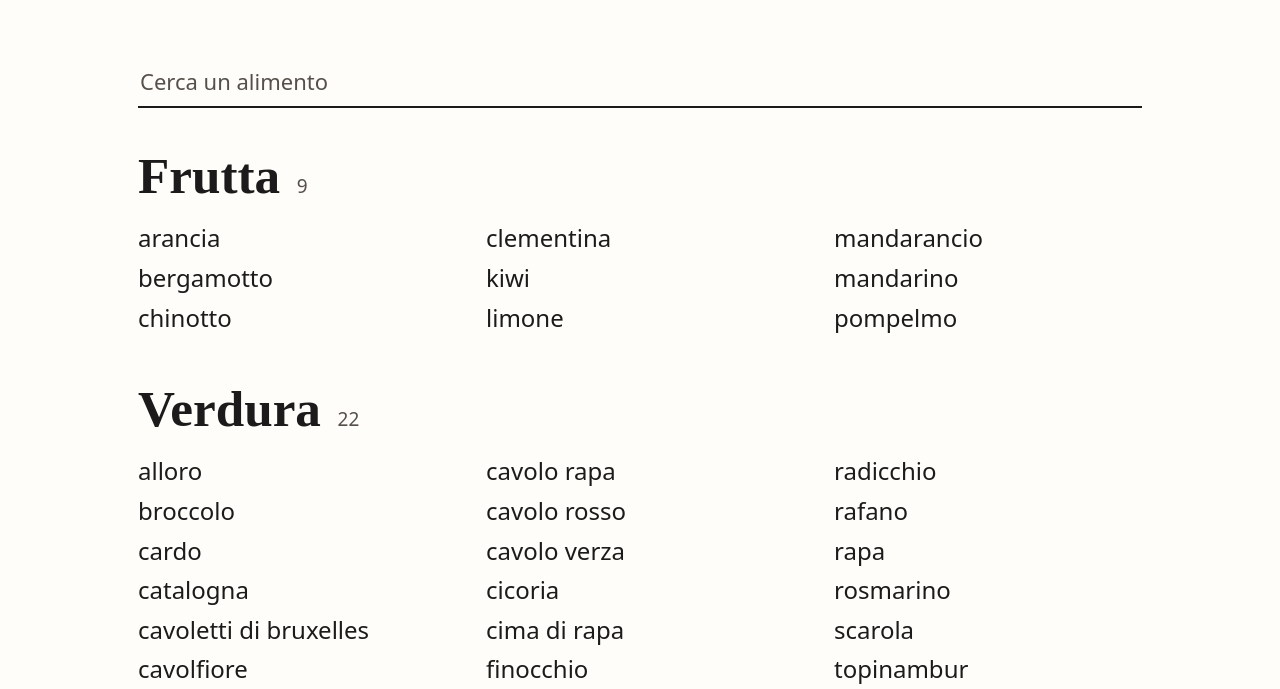
it: MonthIssue › offers the way back when nothing matches, and refocuses the search
Type "zzz" into the search field labelled "Cerca un alimento".
click(640, 82); type("zzz")  # box [138, 56, 1142, 108]
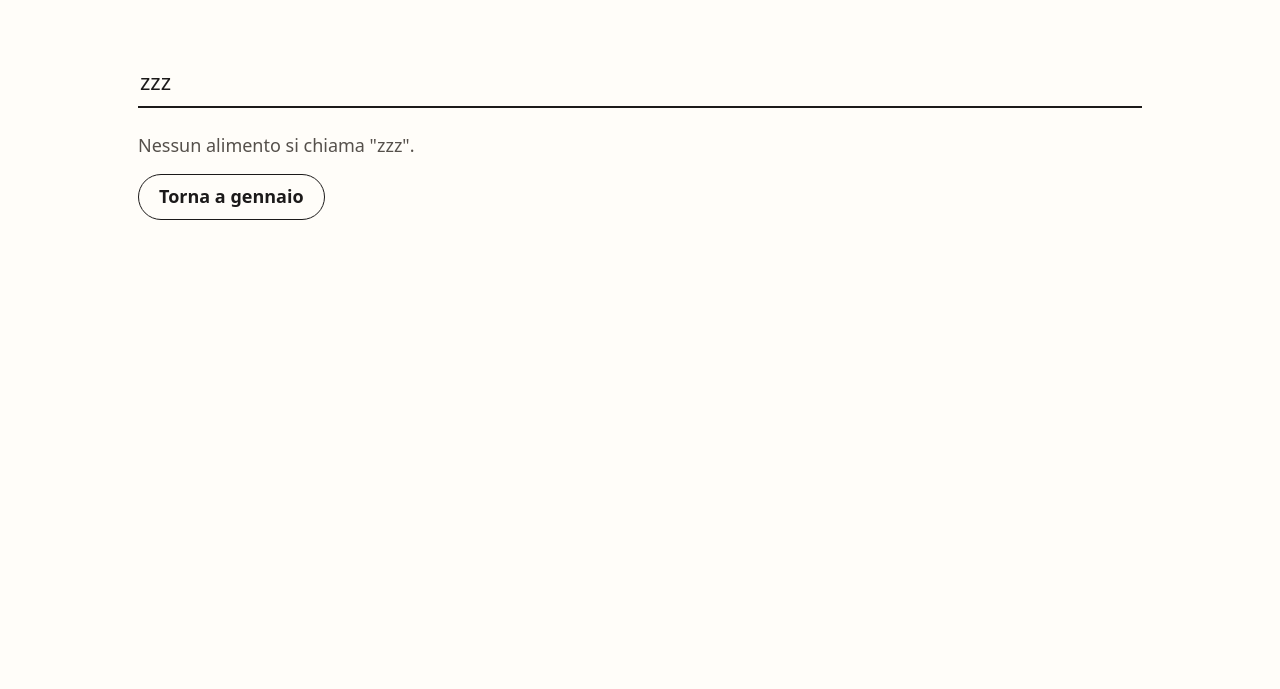
Click the button "Torna a gennaio".
click(231, 197)  # box [138, 174, 325, 220]
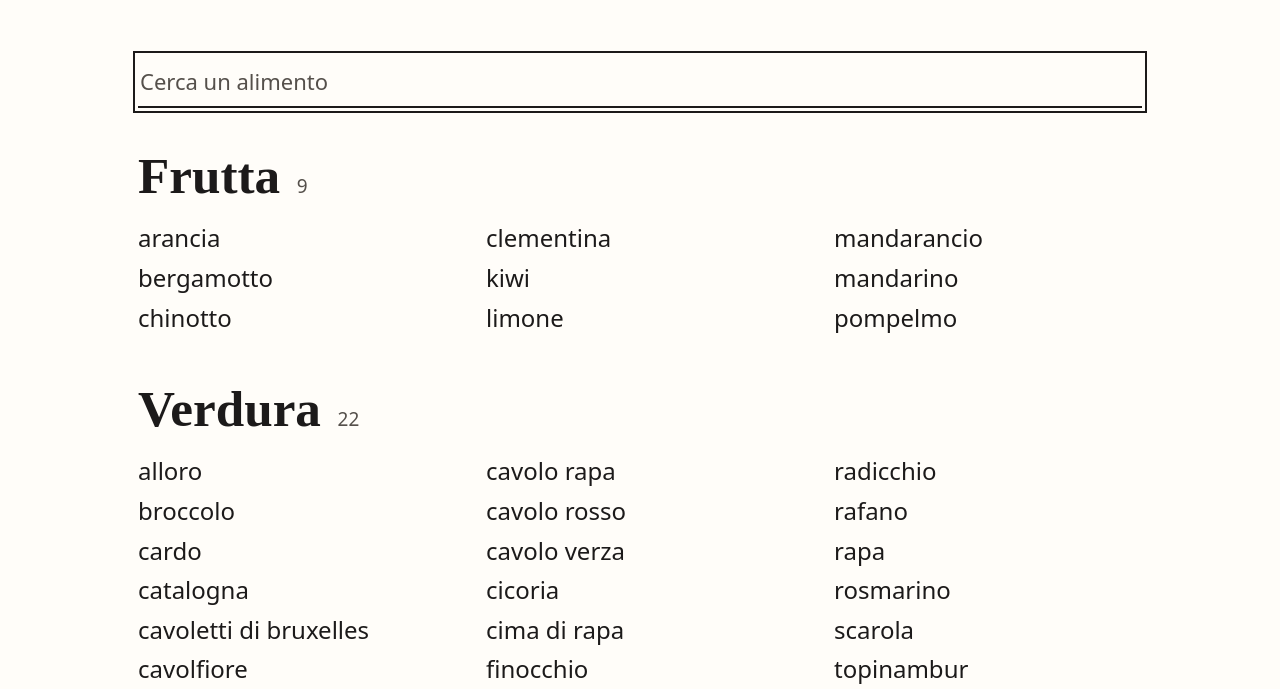
Check: the search field labelled "Cerca un alimento" is empty, box [138, 56, 1142, 108]
Check: the heading "Frutta 9" is shown, box [138, 147, 308, 204]
